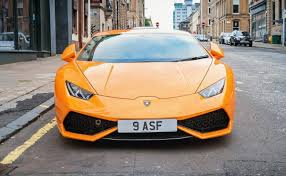number_plate: (113, 114, 182, 137)
